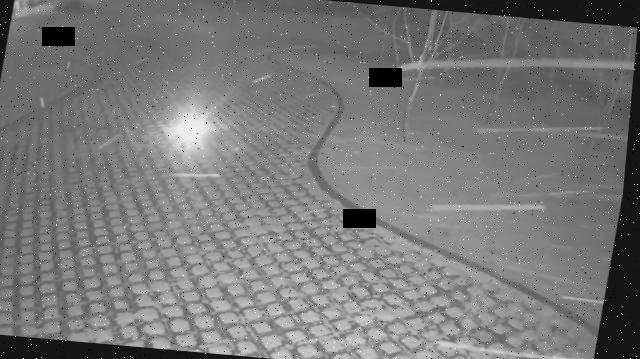fire: (176, 111, 218, 141)
